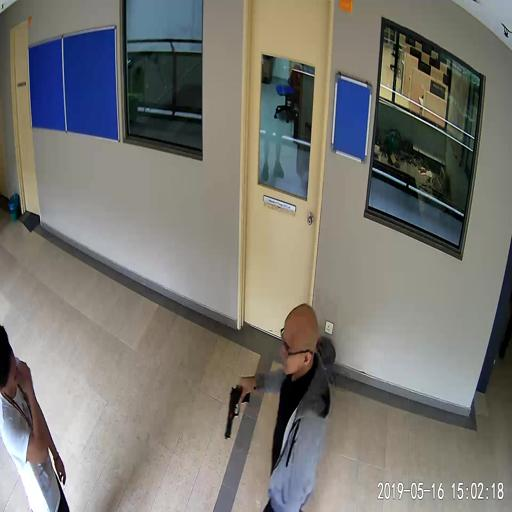pistol: (224, 384, 249, 439)
